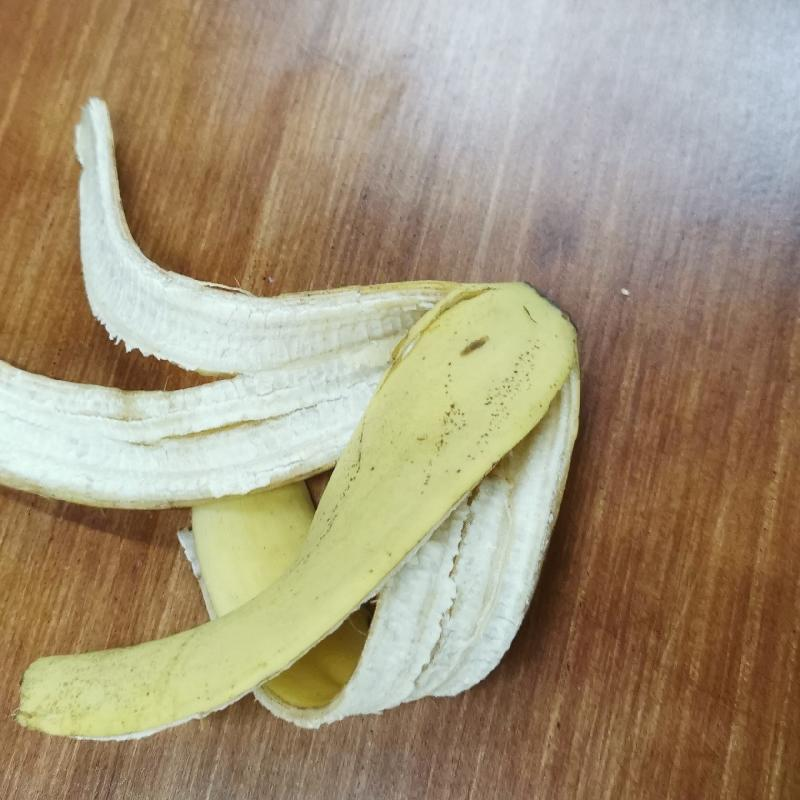bananas: (3, 95, 590, 746)
